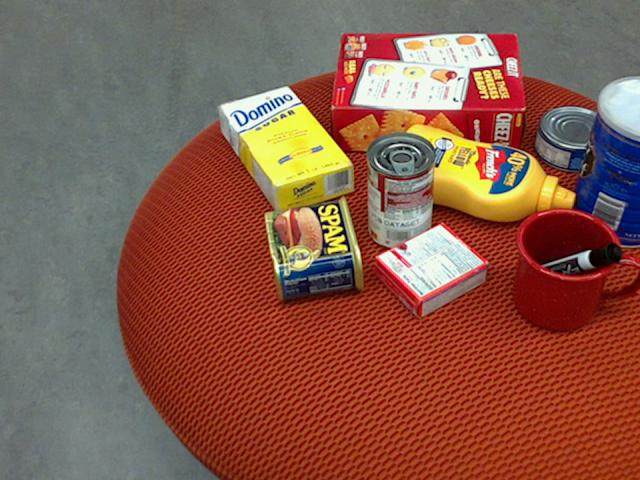cracker_box: (330, 31, 524, 151)
gelatin_box: (371, 224, 488, 319)
large_marker: (519, 241, 622, 287)
master_chef_can: (568, 76, 639, 248)
mug: (512, 207, 639, 331)
mustard_bottle: (385, 123, 574, 221)
potted_meat_can: (263, 194, 364, 300)
sugar_box: (217, 84, 354, 216)
tomato_soup_can: (365, 129, 435, 249)
tuna_fish_can: (533, 105, 613, 171)
